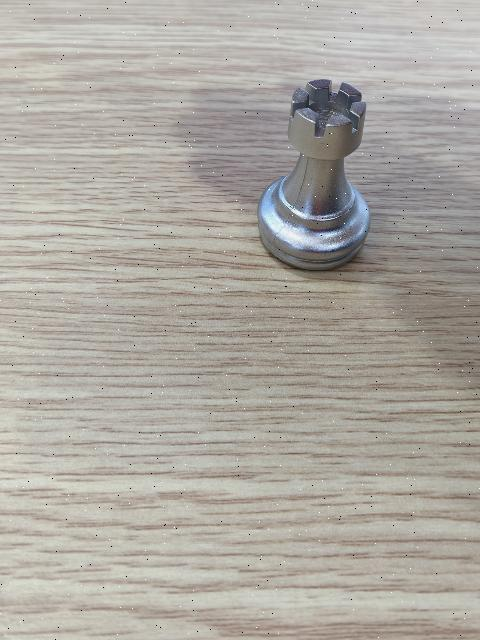white_rook: (259, 77, 373, 267)
